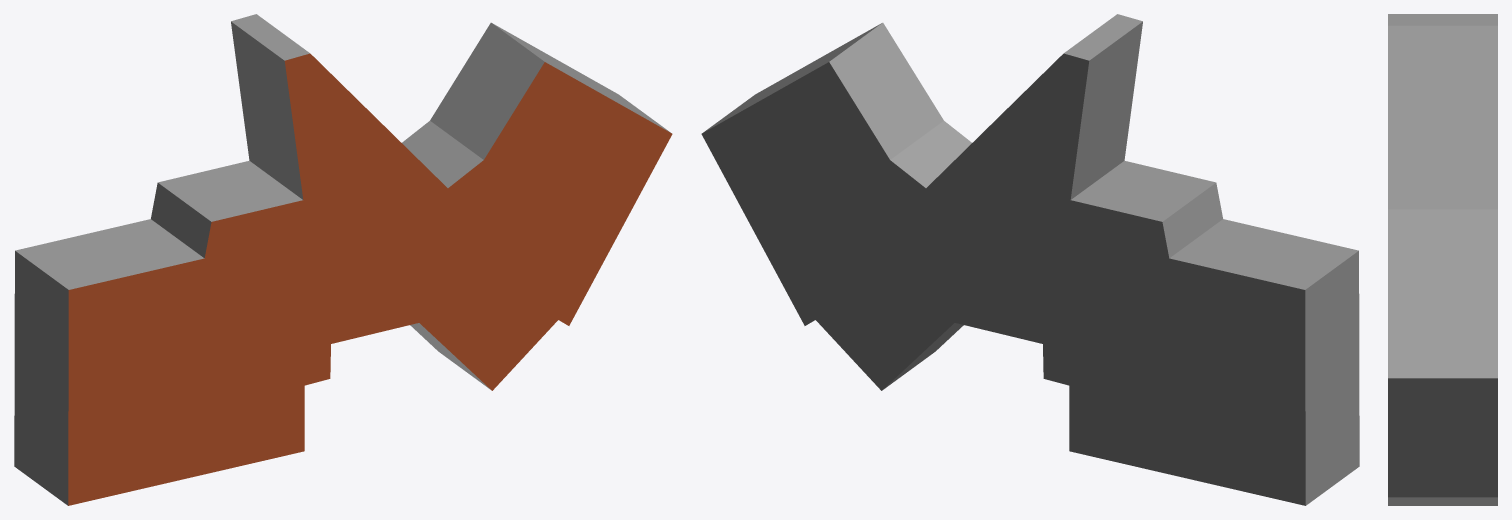
Rendered from construction_6433_assumed_A_Casa_h6m.obj.
3 views of the same model, side by side, from view 1: azimuth 30°, elevation 25°; view 2: azimuth 150°, elevation 25°; view 3: azimuth 270°, elevation 25° (orthographic).
Parts seen in each view (by area): view 1: construction_6433_assumed_A_Casa; view 2: construction_6433_assumed_A_Casa; view 3: construction_6433_assumed_A_Casa.
Boxes of the visible parts, <box> form: construction_6433_assumed_A_Casa: <box>14,14,672,505</box>; construction_6433_assumed_A_Casa: <box>701,14,1359,505</box>; construction_6433_assumed_A_Casa: <box>1388,14,1497,505</box>.
Bounding box in the file's own units: 38.86 × 24.36 × 6.
